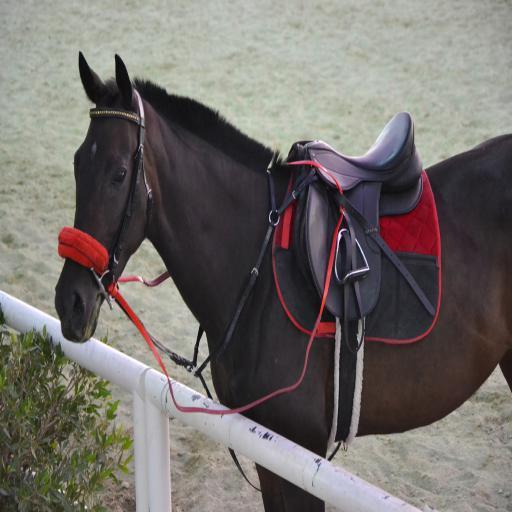horse: (54, 50, 512, 512)
